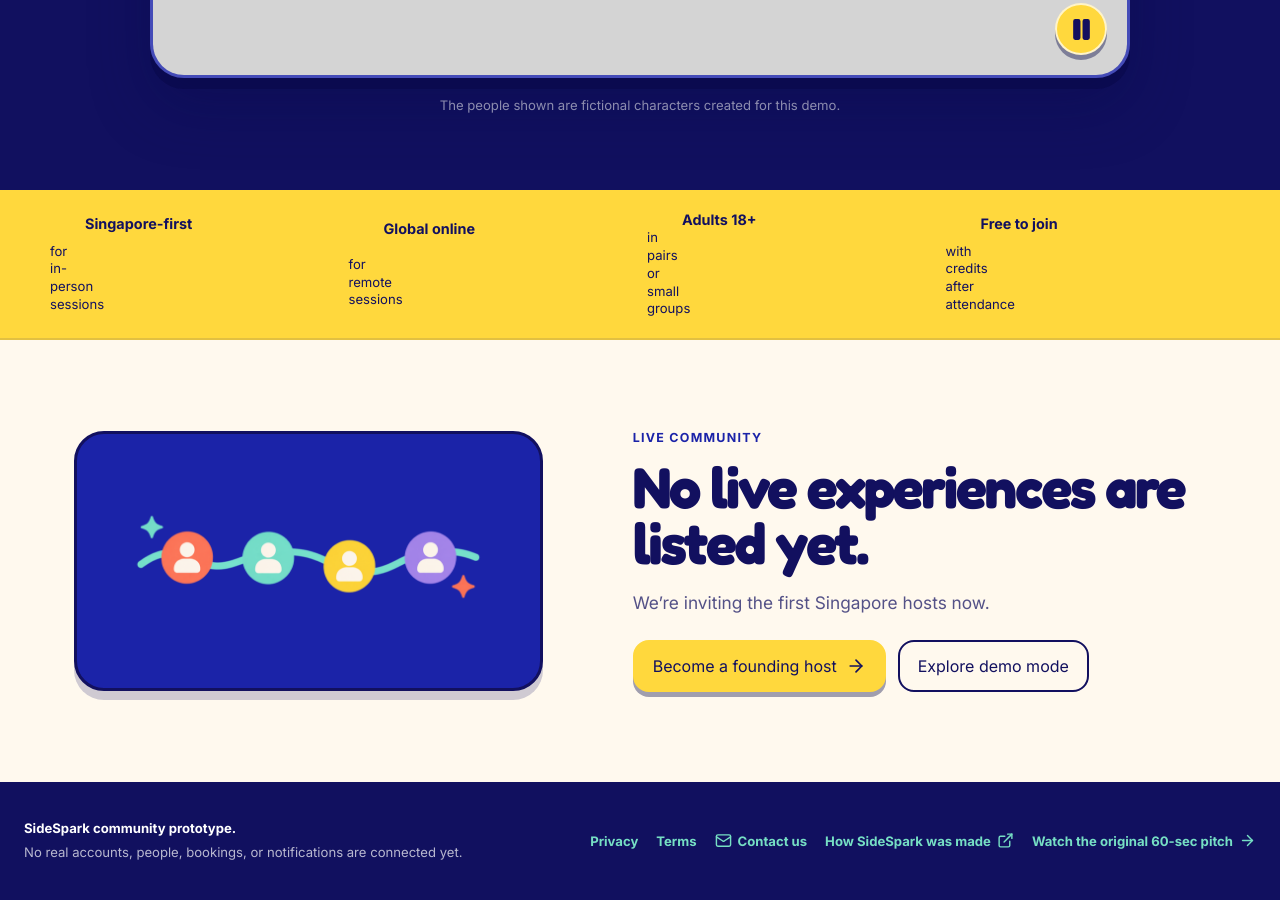
Test case: public experiences marketplace › keeps the classic guided journey available
(page scrolled)
Click the button "Explore demo mode": (993, 666) [898, 640, 1089, 692]
(page scrolled)
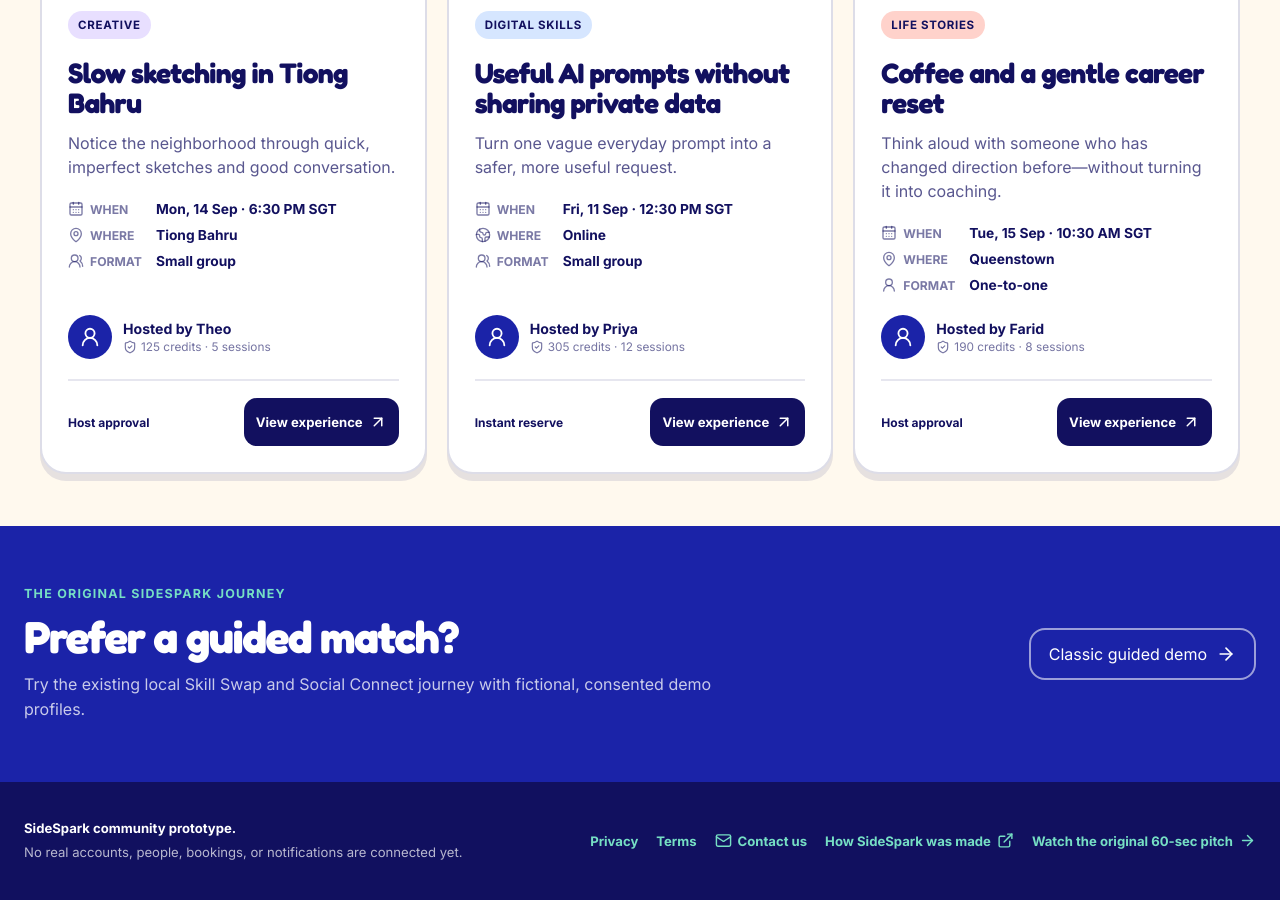
Click the button "Classic guided demo": (1142, 654) [1029, 628, 1256, 680]
(page scrolled)
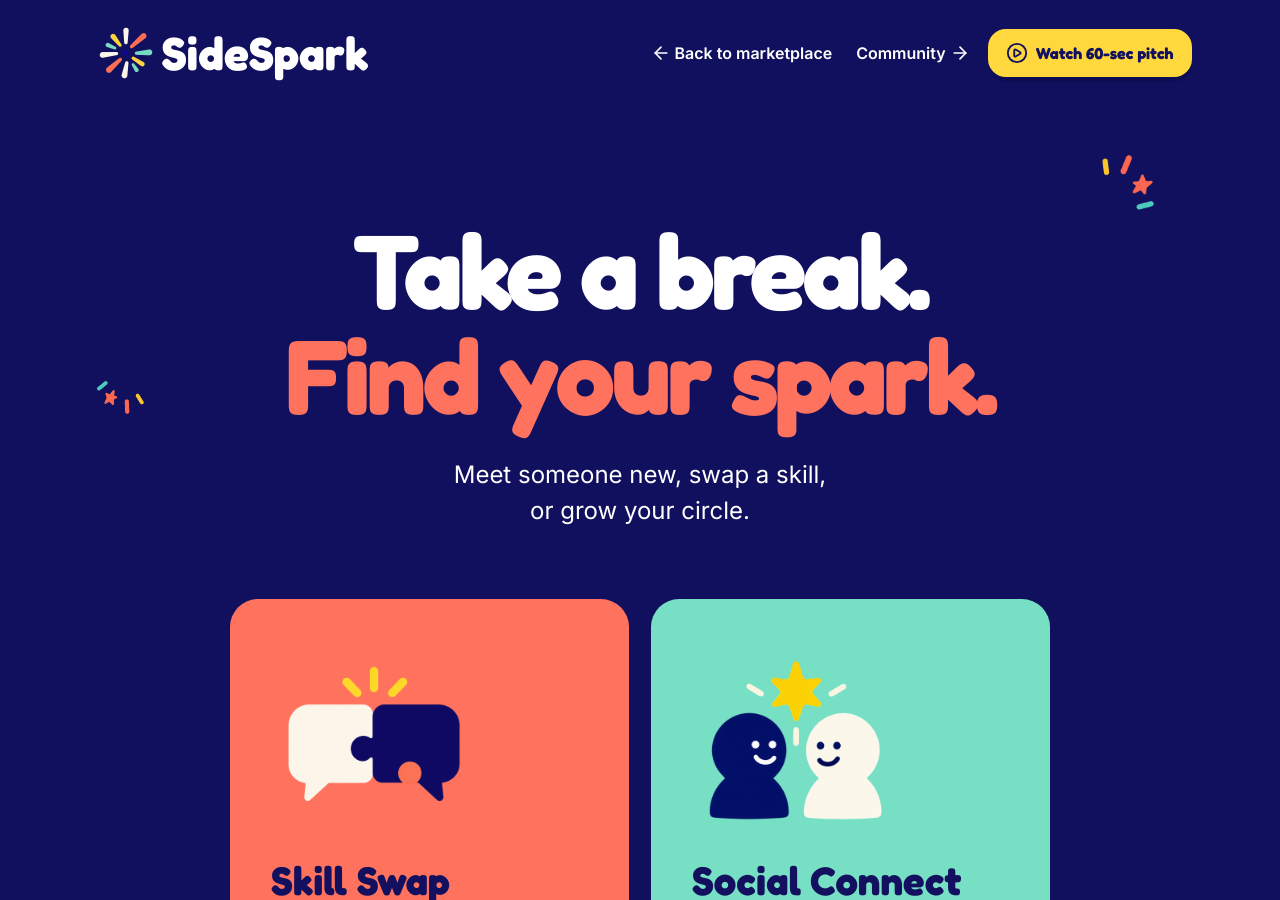
expect the heading "Take a break. Find your spark." is shown: met, box [230, 218, 1050, 427]
expect the button "Back to marketplace" is shown: met, box [644, 29, 838, 77]
